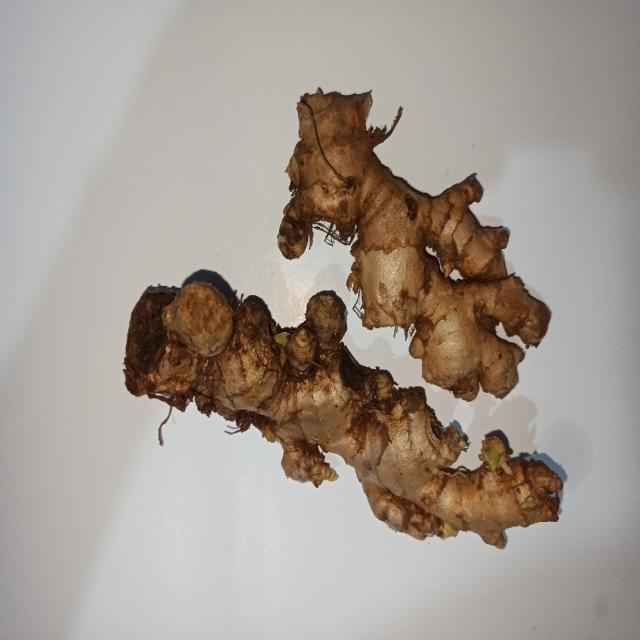ginger: (132, 289, 562, 550), (307, 91, 548, 393)
